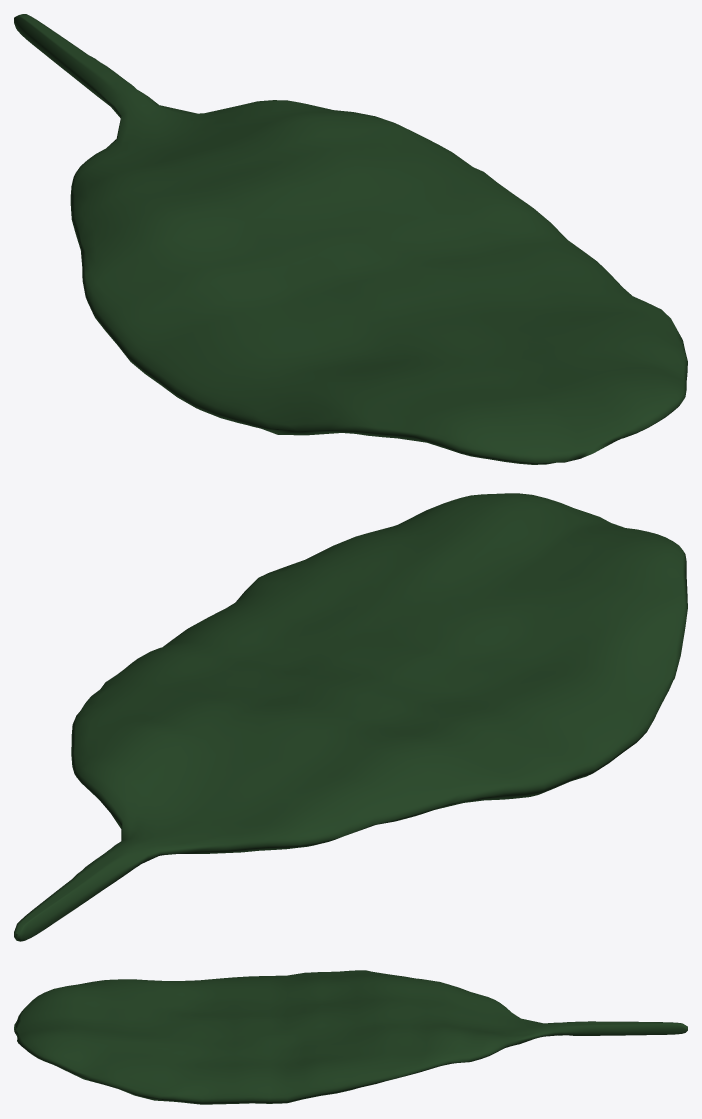
Rendered from Planta Hoja 1.fbx.
The picture shows the model from 3 angles, top to bottom: view 1: azimuth 30°, elevation 25°; view 2: azimuth 150°, elevation 25°; view 3: azimuth 270°, elevation 25°; orthographic projection. The views are drawn at different scales.
Visible parts, largest first — view 1: Hoja; view 2: Hoja; view 3: Hoja.
Part boxes in pixels (left/top/right/bottom): Hoja: left=14, top=14, right=687, bottom=464; Hoja: left=14, top=493, right=687, bottom=941; Hoja: left=14, top=970, right=687, bottom=1104.
Bounding box in the file's own units: 8.54 × 1.46 × 19.39.
